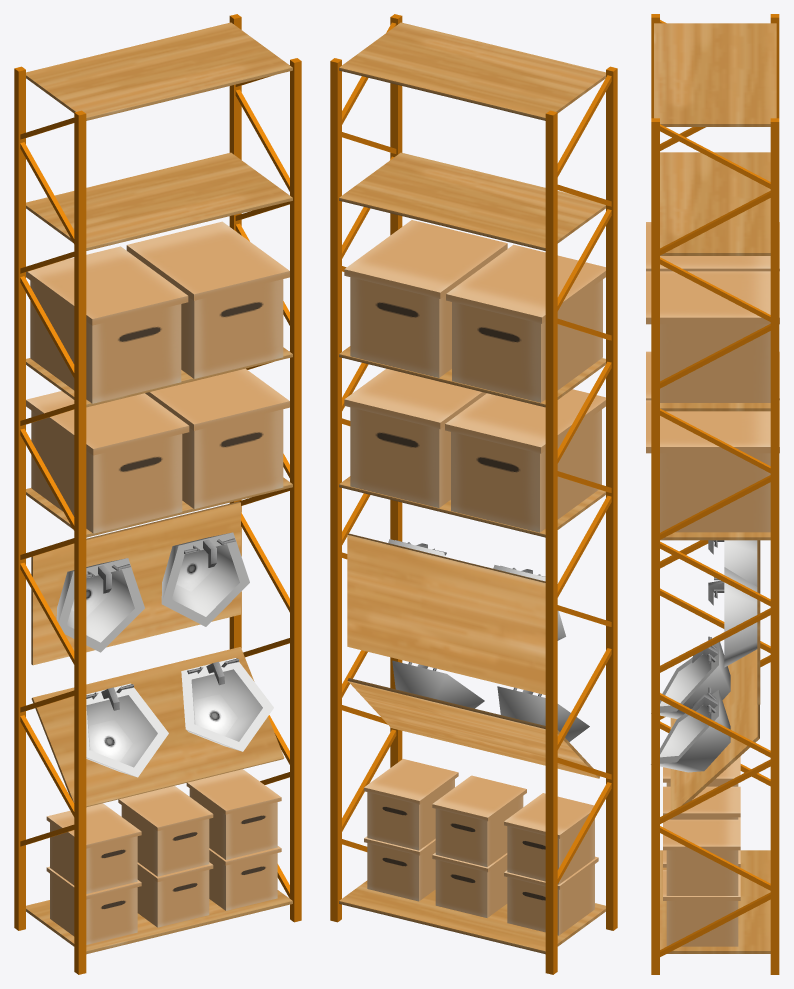
File: Sink_Rack.fbx
The picture shows the model from 3 angles, left to right: view 1: azimuth 30°, elevation 25°; view 2: azimuth 150°, elevation 25°; view 3: azimuth 270°, elevation 25°; orthographic projection.
Parts seen in each view (by area): view 1: Sink_Rack; view 2: Sink_Rack; view 3: Sink_Rack.
Boxes of the visible parts, x1=… form: Sink_Rack: x1=14, y1=14, x2=301, y2=974; Sink_Rack: x1=330, y1=14, x2=617, y2=974; Sink_Rack: x1=646, y1=14, x2=779, y2=974.
Size of the model in its own units: 2 by 7.37 by 1.05.
